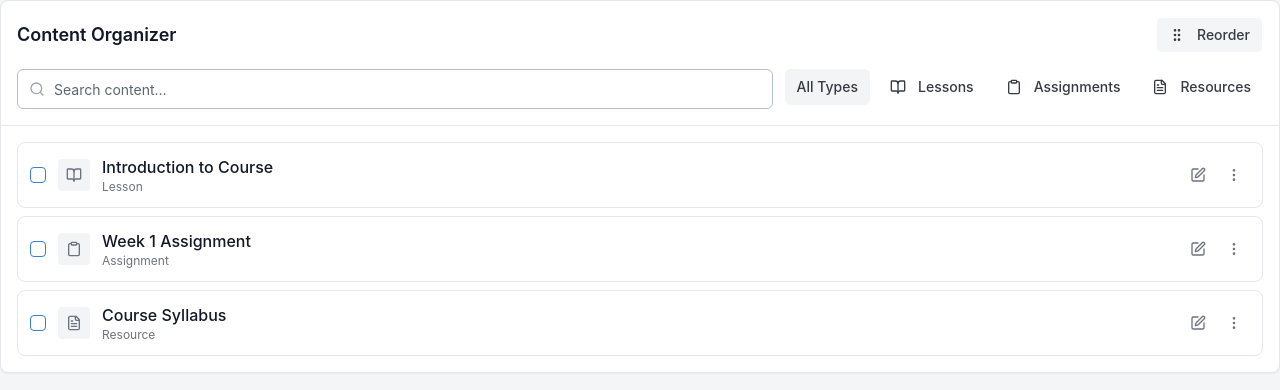
Test: ContentOrganizer › filters items by type
Note: Click on Lessons filter
Click the button "Lessons". click: (932, 87)
box: [878,69,986,105]
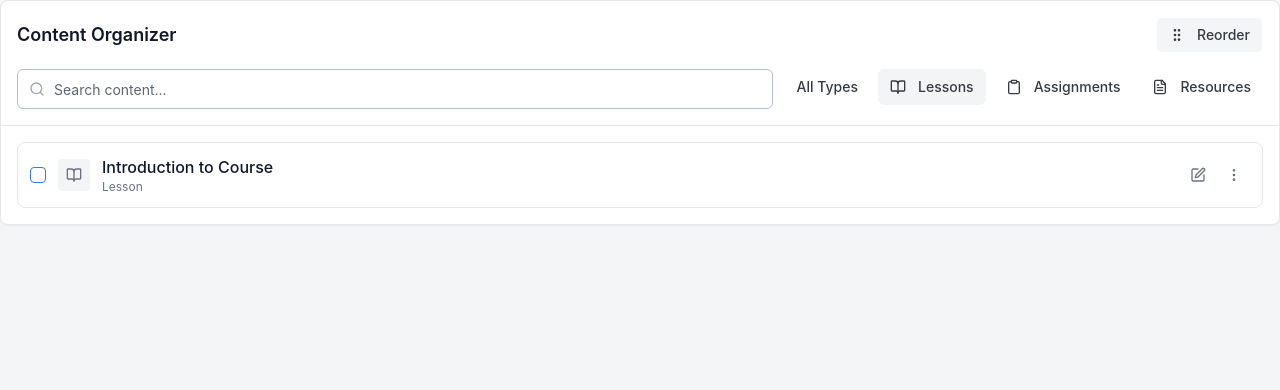
Expected: the heading "Introduction to Course" is shown, [102,157,273,177]
Result: the heading "Week 1 Assignment" is gone
Result: the heading "Course Syllabus" is gone
